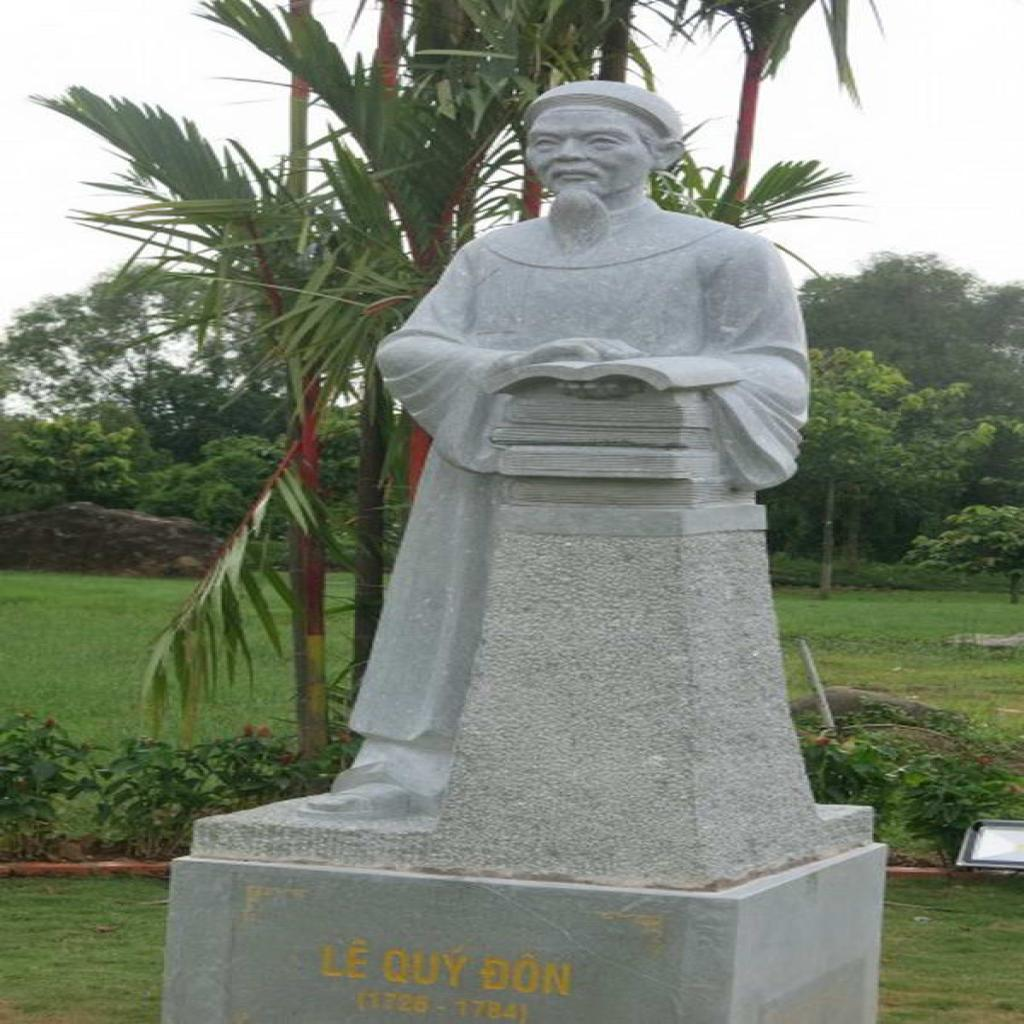text: (471, 948, 584, 996), (379, 942, 479, 990), (312, 935, 379, 982), (350, 989, 452, 1018)
